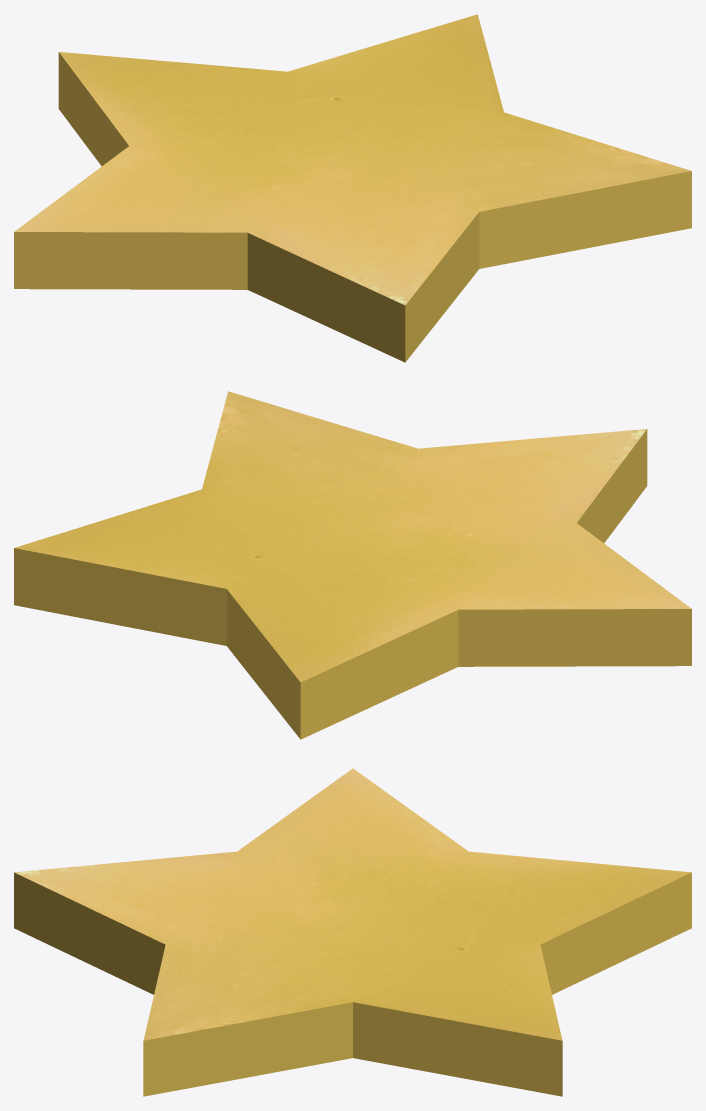
File: Star.FBX
3 views of the same model, one above another, from view 1: azimuth 30°, elevation 25°; view 2: azimuth 150°, elevation 25°; view 3: azimuth 270°, elevation 25° (orthographic). The views are drawn at different scales.
Visible parts, largest first — view 1: Cylinder001; view 2: Cylinder001; view 3: Cylinder001.
Part boxes in pixels (x1,y1,x2,y2): Cylinder001: [14, 14, 691, 362]; Cylinder001: [14, 391, 691, 739]; Cylinder001: [14, 768, 691, 1096].
Size of the model in its own units: 3.27 by 0.3132 by 3.44.
